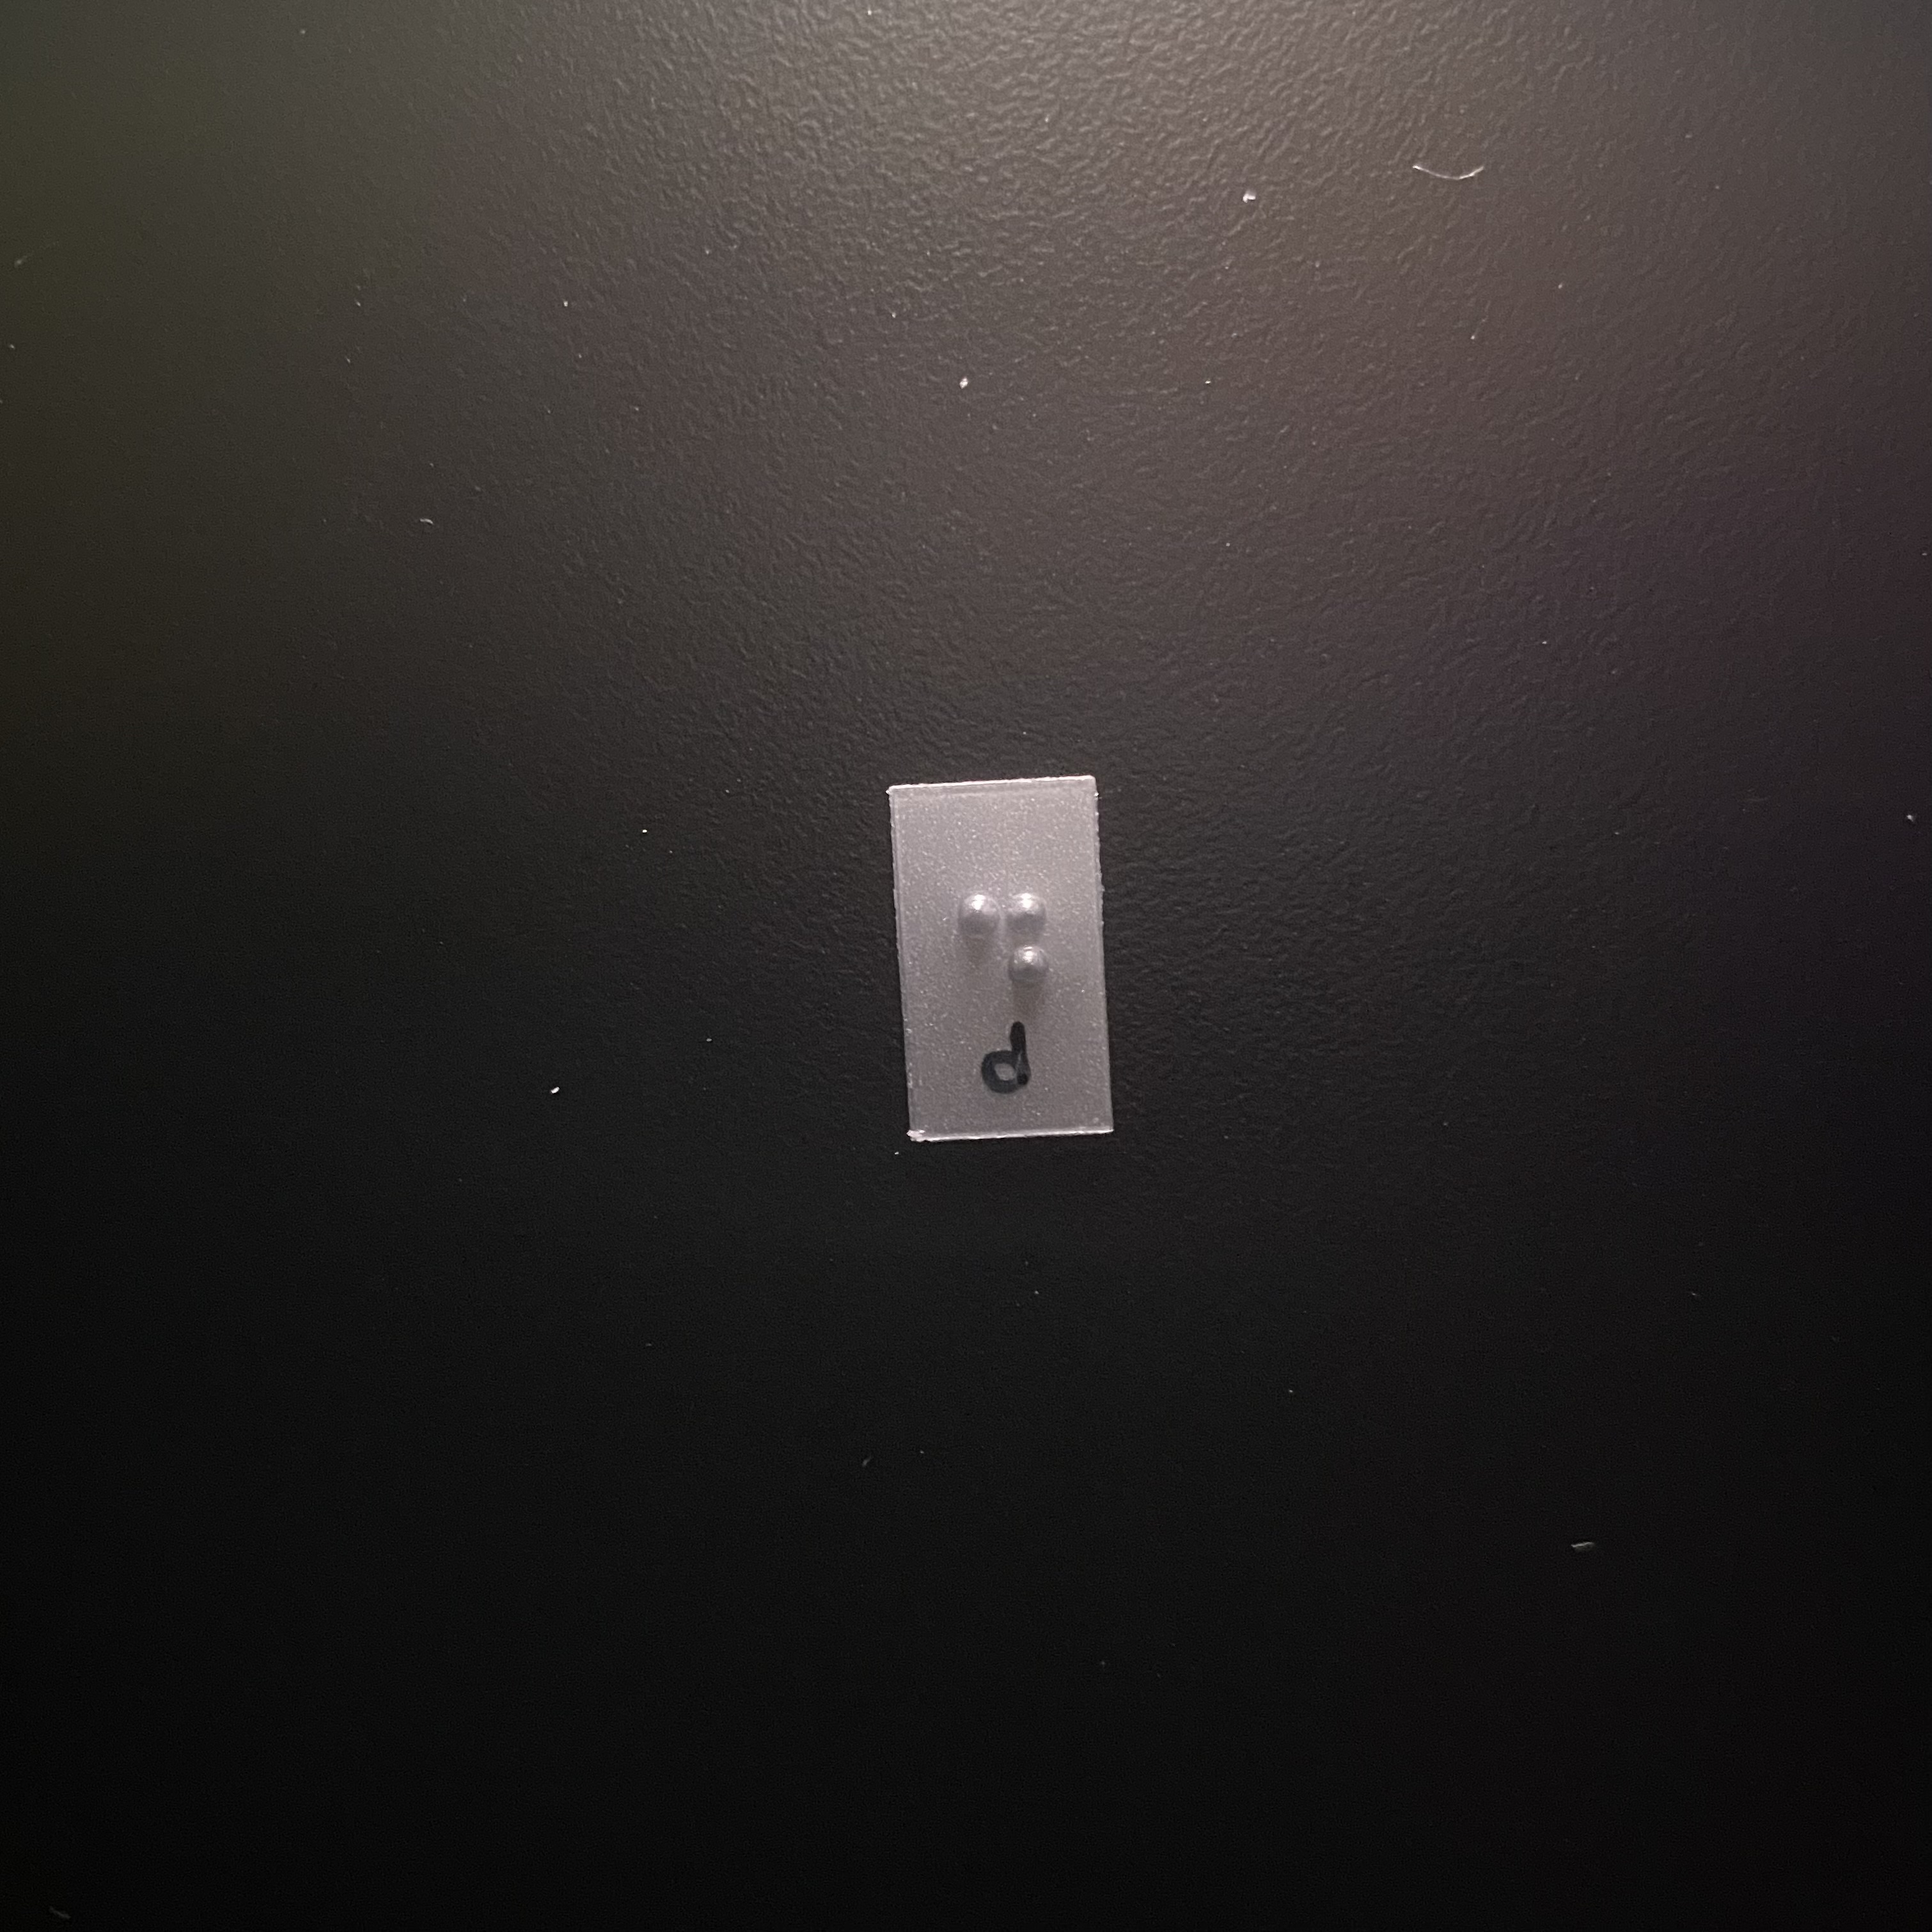d: (937, 861, 1067, 1079)
